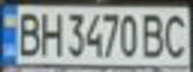0: (118, 10, 142, 58)
3: (63, 9, 84, 57)
4: (84, 10, 106, 57)
7: (100, 10, 121, 58)
B: (139, 10, 169, 60), (12, 8, 42, 57)
C: (160, 10, 193, 60)
H: (36, 8, 63, 57)
